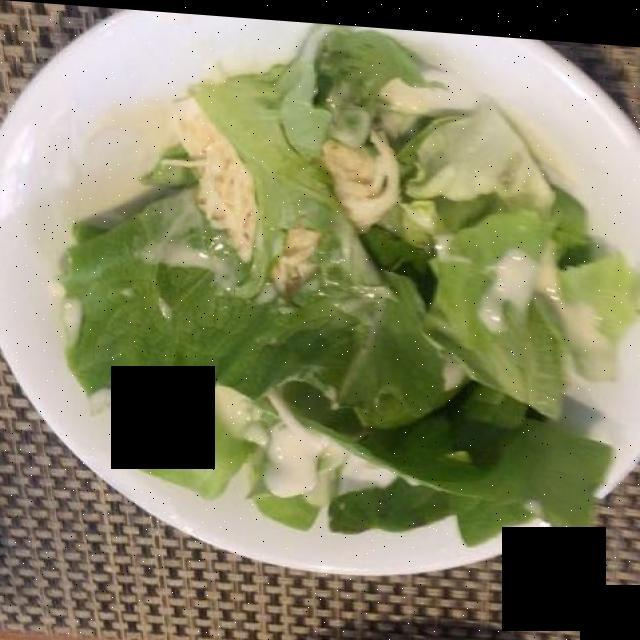salad: (63, 56, 603, 535)
